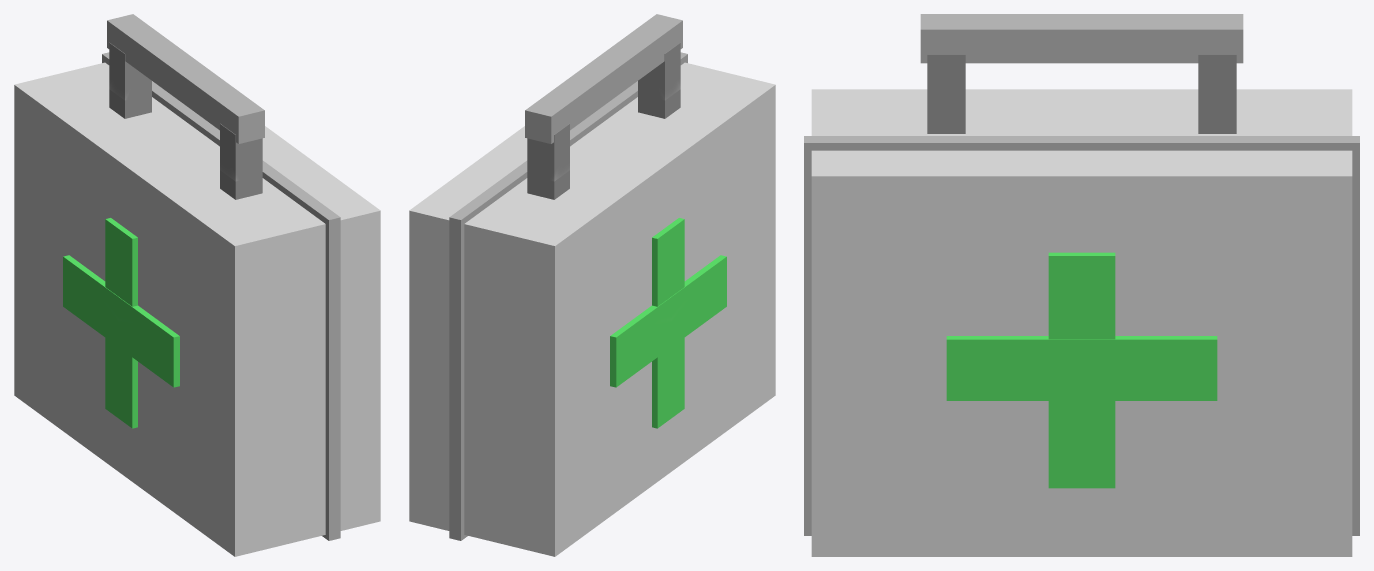
Rendered from Cbag.fbx.
3 views of the same model, side by side, from view 1: azimuth 30°, elevation 25°; view 2: azimuth 150°, elevation 25°; view 3: azimuth 270°, elevation 25° (orthographic). The views are drawn at different scales.
Visible parts, largest first — view 1: Cube; view 2: Cube; view 3: Cube.
Boxes of the visible parts, x1,y1,x2,y2 form: Cube: (14, 14, 380, 556); Cube: (409, 14, 775, 556); Cube: (804, 14, 1359, 556).
Bounding box in the file's own units: 82.77 × 200 × 206.
1 material, 1 textured.
